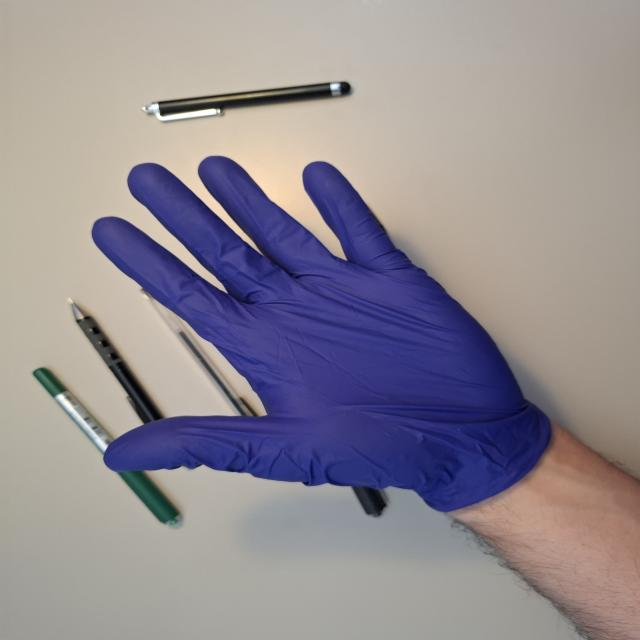glove_on: (85, 153, 538, 510)
